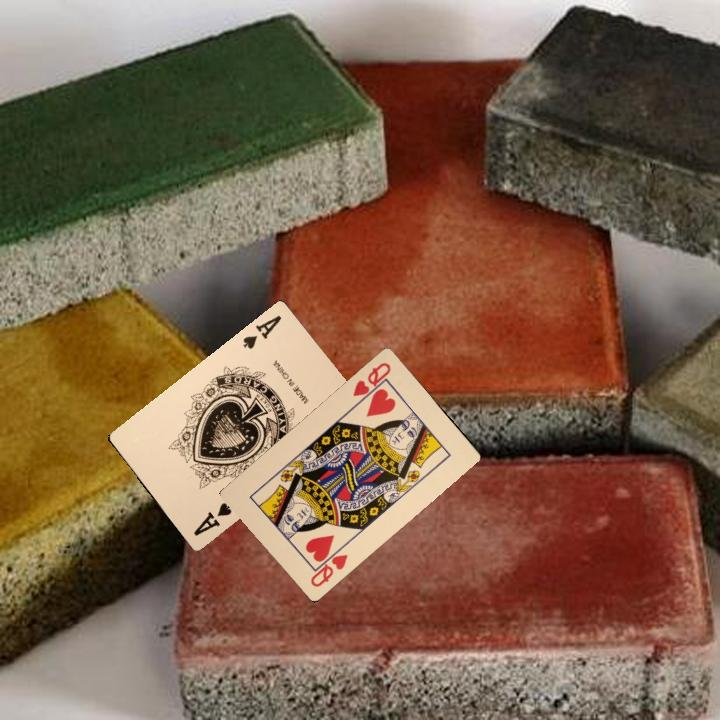As: (189, 498, 234, 539), (239, 311, 284, 352)
Qh: (348, 358, 394, 406), (306, 542, 351, 590)
